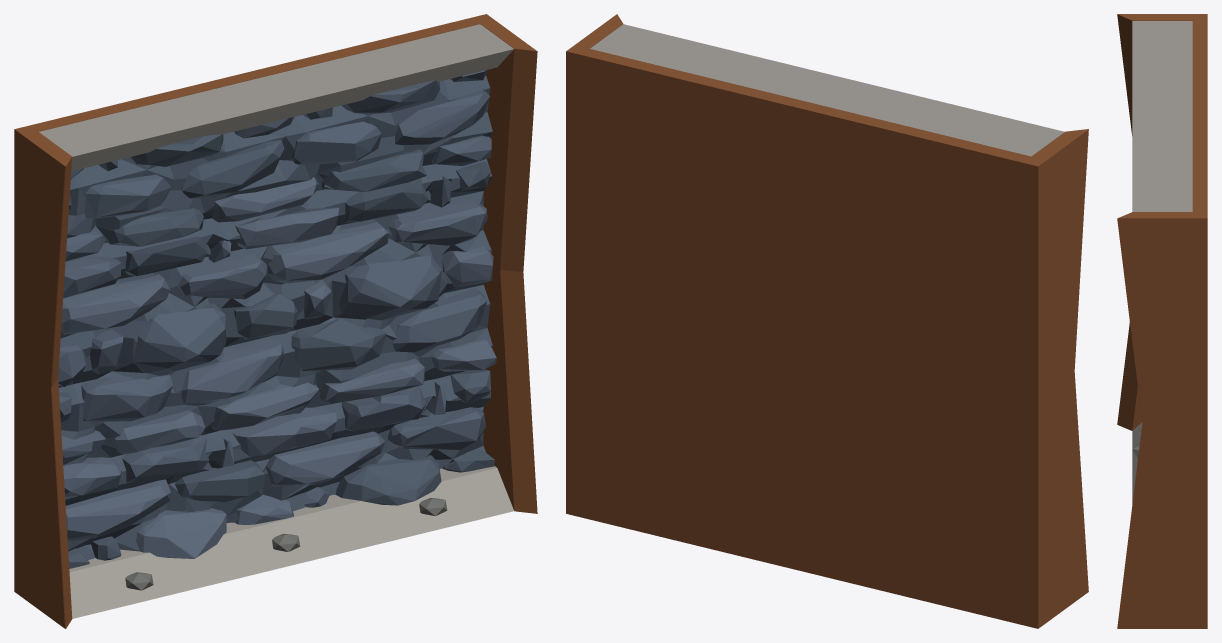
The model's file is Wall.glb.
3 views of the same model, side by side, from view 1: azimuth 30°, elevation 25°; view 2: azimuth 150°, elevation 25°; view 3: azimuth 270°, elevation 25° (orthographic). The views are drawn at different scales.
Visible parts, largest first — view 1: Cube.067; view 2: Cube.067; view 3: Cube.067.
Boxes of the visible parts, x1,y1,x2,y2 form: Cube.067: [14, 14, 537, 628]; Cube.067: [566, 14, 1088, 628]; Cube.067: [1117, 14, 1207, 628].
Bounding box in the file's own units: 6.41 × 6 × 1.2.
